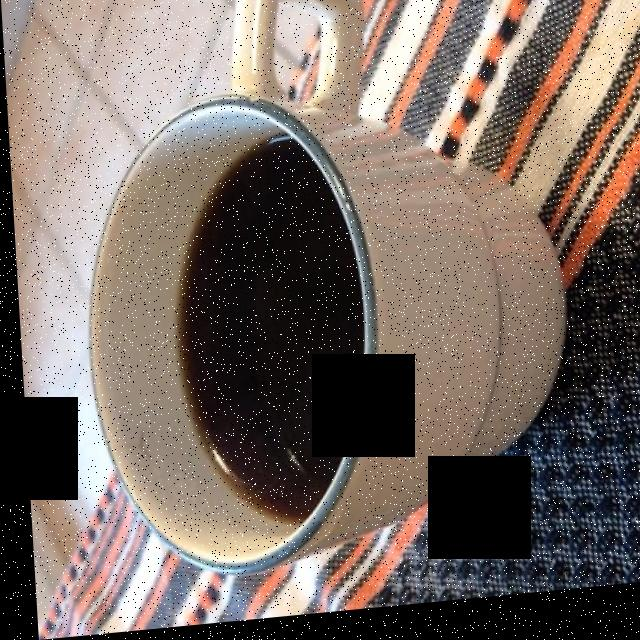coffee-with-caffeine: (172, 146, 356, 524)
